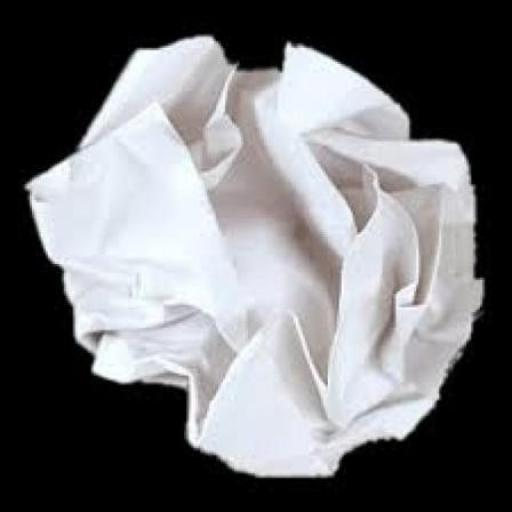paper: (8, 16, 512, 512)
